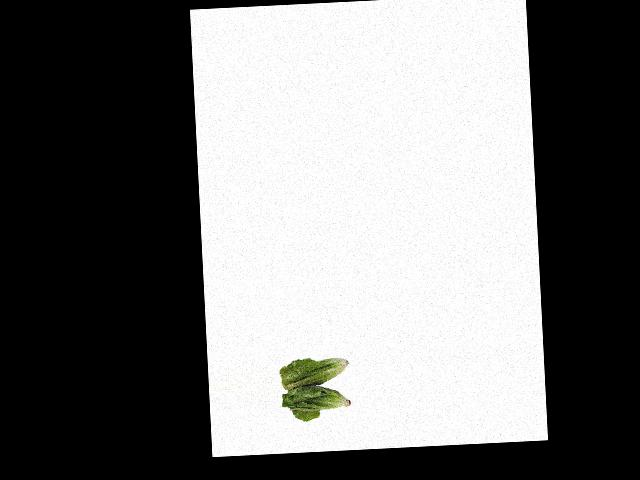lettuce: (279, 352, 351, 415)
